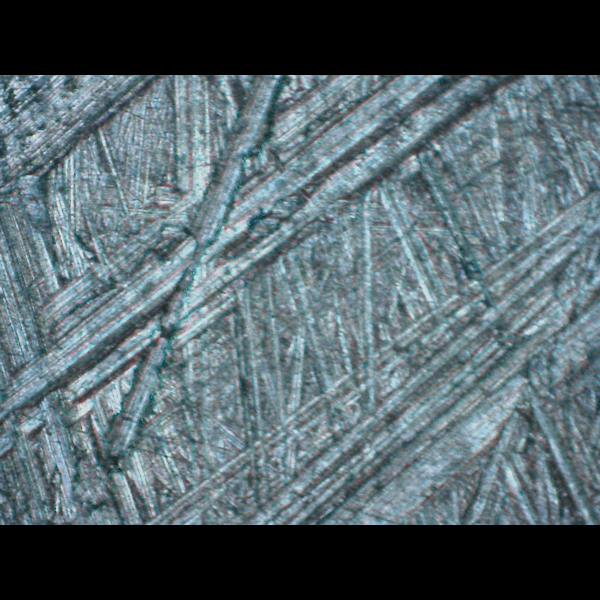d: (0, 75, 553, 418), (151, 181, 599, 525), (0, 75, 164, 207)
